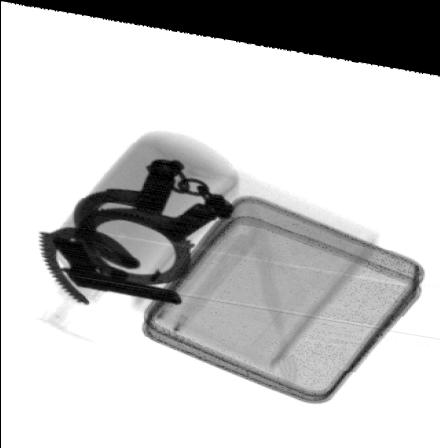Gun: (48, 234, 182, 300)
HandCuffs: (33, 152, 233, 305)
